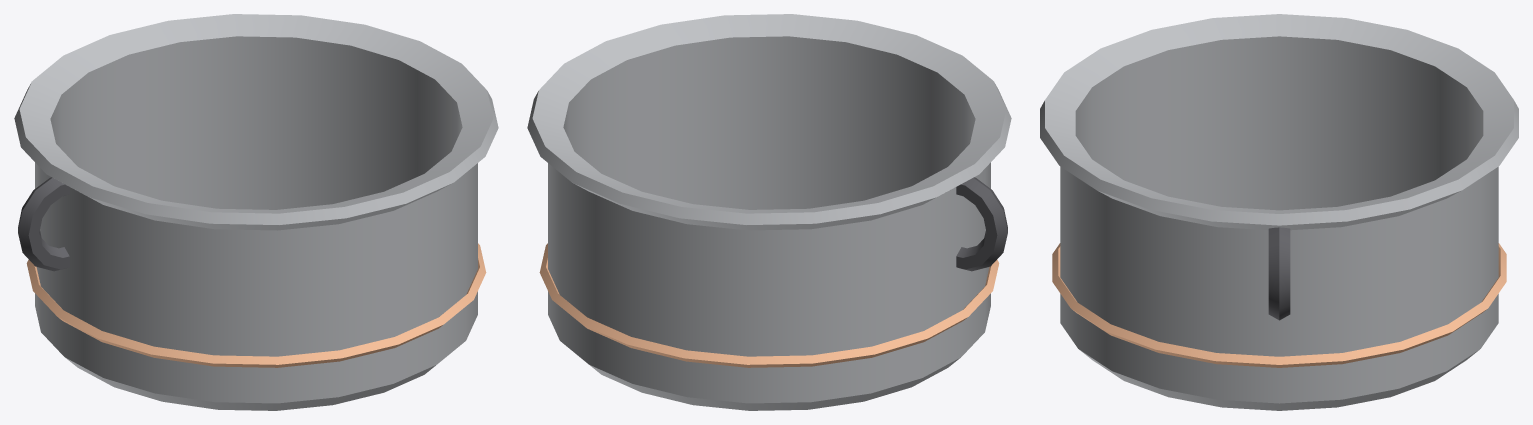
The model's file is kr_pot.glb.
3 views of the same model, side by side, from view 1: azimuth 30°, elevation 25°; view 2: azimuth 150°, elevation 25°; view 3: azimuth 270°, elevation 25° (orthographic).
Visible parts, largest first — view 1: vc_m8_r2, vc_m8_r4; view 2: vc_m8_r2, vc_m8_r4; view 3: vc_m8_r2, vc_m8_r4.
Part boxes in pixels (x1=…): vc_m8_r2: x1=14, y1=14, x2=498, y2=410; vc_m8_r4: x1=18, y1=177, x2=486, y2=367; vc_m8_r2: x1=527, y1=14, x2=1011, y2=410; vc_m8_r4: x1=539, y1=177, x2=1007, y2=367; vc_m8_r2: x1=1040, y1=14, x2=1518, y2=410; vc_m8_r4: x1=1052, y1=227, x2=1506, y2=367.
Bounding box in the file's own units: 0.534 × 0.225 × 0.4652.
